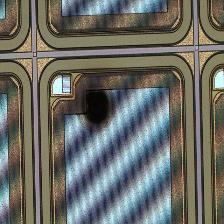PO CONTAMINATION: (68, 74, 125, 135)
